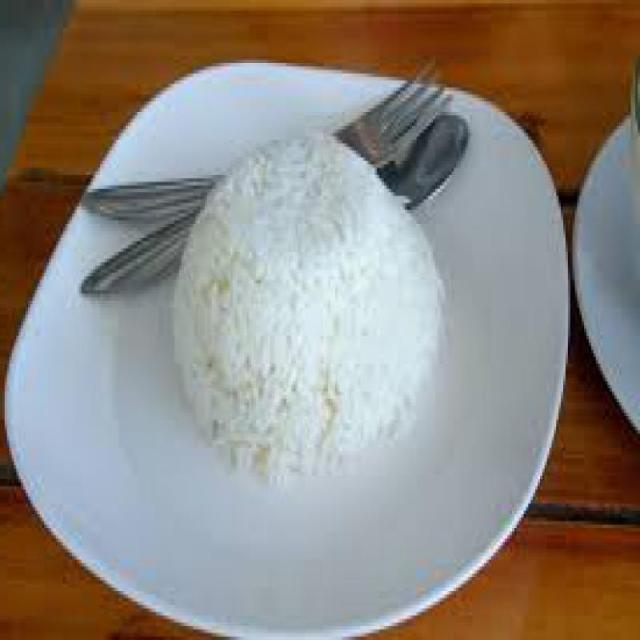nasi_putih: (172, 128, 439, 486)
